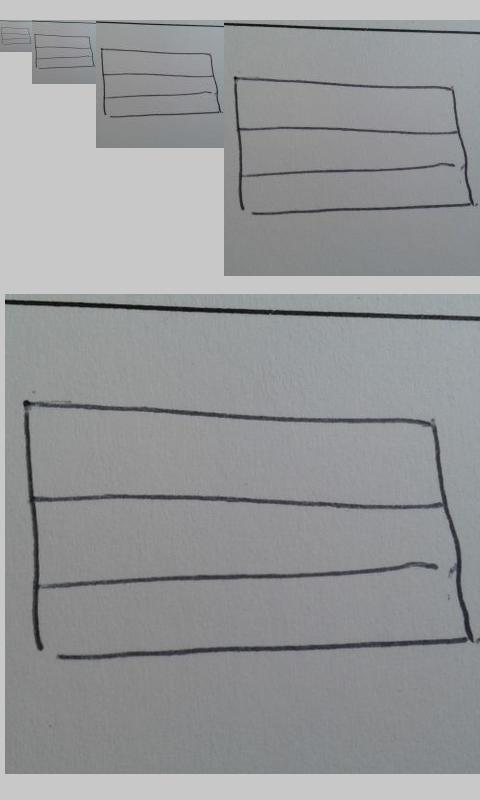list_view: (20, 396, 474, 662), (234, 75, 474, 217), (100, 47, 221, 119), (33, 33, 95, 70), (1, 26, 32, 46)
